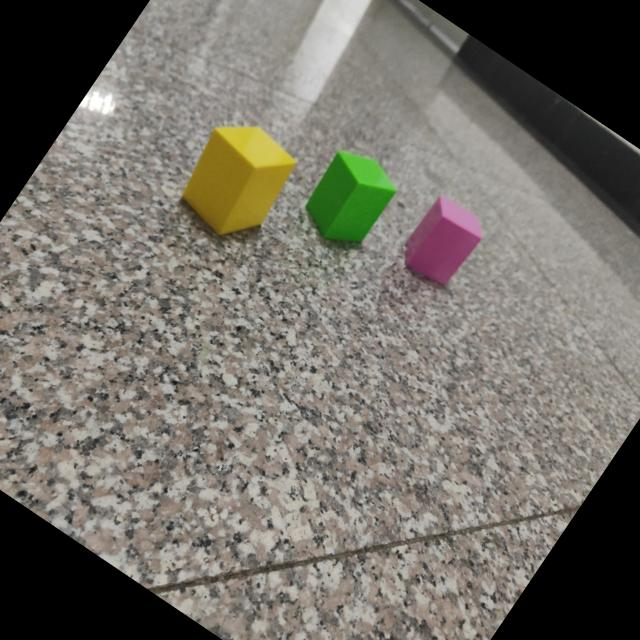green: (303, 151, 397, 248)
pink: (402, 197, 483, 291)
yellow: (180, 126, 295, 238)
